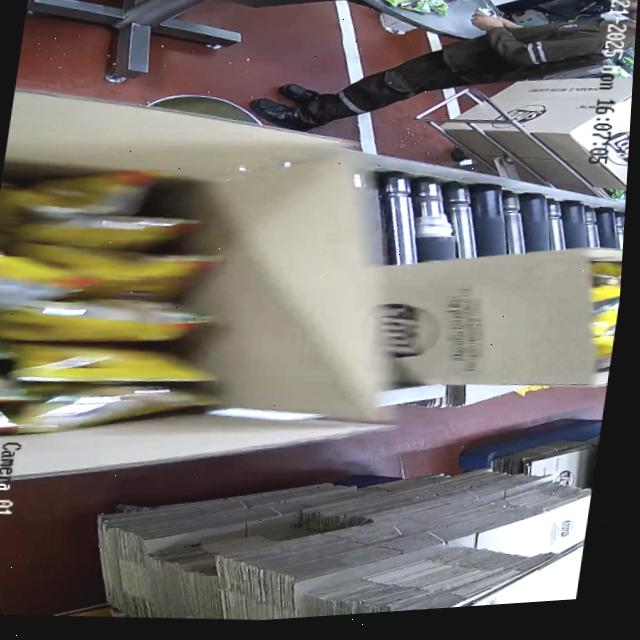SALTED: (0, 157, 240, 452)
